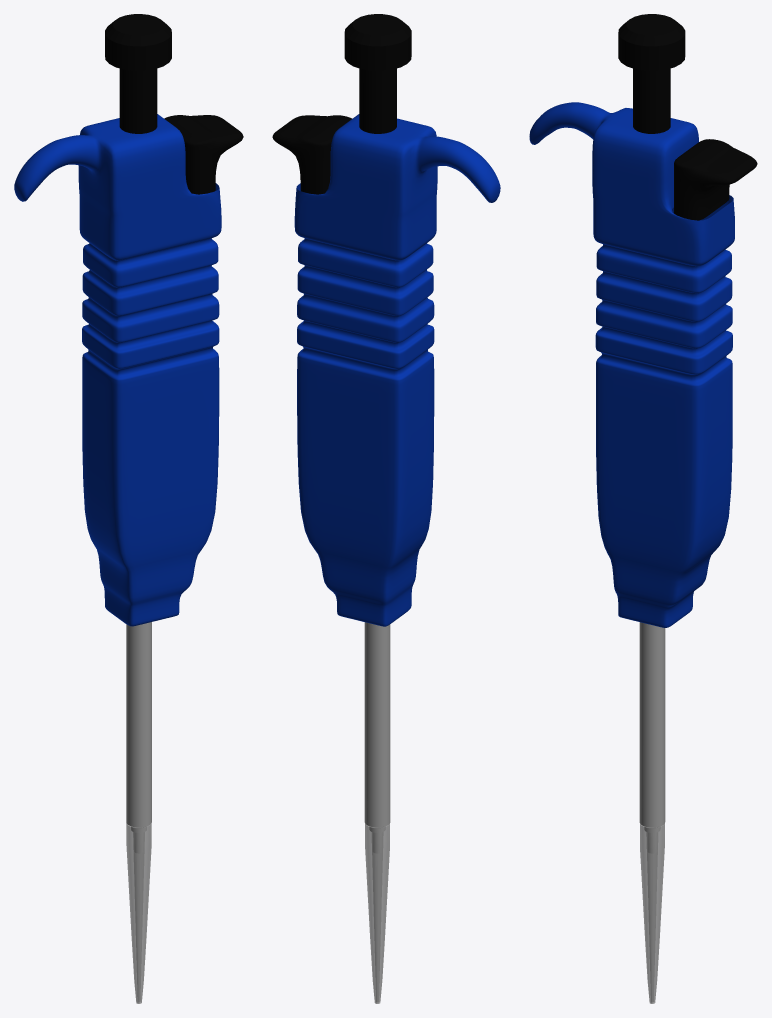
File: Pipette.fbx
3 views of the same model, side by side, from view 1: azimuth 30°, elevation 25°; view 2: azimuth 150°, elevation 25°; view 3: azimuth 330°, elevation 25° (orthographic).
Parts seen in each view (by area): view 1: Pipette_body, pipette_push, pipette_rod, Pipette_eject, Pipette_tip; view 2: Pipette_body, pipette_push, pipette_rod, Pipette_eject, Pipette_tip; view 3: Pipette_body, pipette_push, pipette_rod, Pipette_eject, Pipette_tip.
Part boxes in pixels (x1,y1,x2,y2): Pipette_body: (14, 114, 221, 626); pipette_push: (105, 14, 171, 133); pipette_rod: (126, 622, 151, 852); Pipette_eject: (164, 115, 243, 194); Pipette_tip: (126, 823, 151, 1003); Pipette_body: (294, 114, 500, 626); pipette_push: (344, 14, 411, 133); pipette_rod: (364, 622, 390, 852); Pipette_eject: (272, 115, 351, 194); Pipette_tip: (365, 823, 389, 1003); Pipette_body: (529, 102, 734, 627); pipette_push: (618, 14, 685, 133); pipette_rod: (639, 622, 665, 852); Pipette_eject: (674, 139, 757, 220); Pipette_tip: (640, 823, 664, 1003).
Bounding box in the file's own units: 3.29 × 14.34 × 0.9991.
